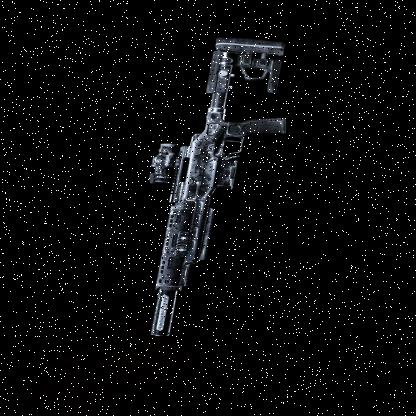rifle: (96, 30, 312, 345)
